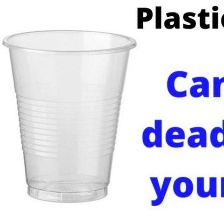glass: (0, 25, 141, 203)
